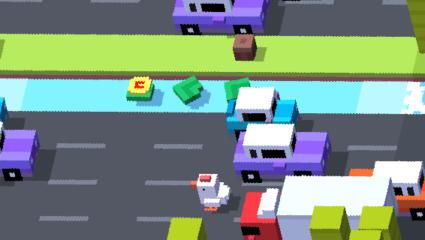hen: (190, 173, 230, 213)
obstacle: (240, 174, 398, 240), (233, 126, 331, 186), (348, 162, 425, 220), (171, 0, 270, 35), (226, 88, 298, 132), (0, 124, 43, 180), (358, 202, 400, 240), (308, 204, 350, 239), (405, 1, 425, 58), (166, 218, 209, 240), (233, 34, 260, 62)
timber: (127, 75, 155, 103), (172, 78, 202, 104), (224, 80, 251, 102)
